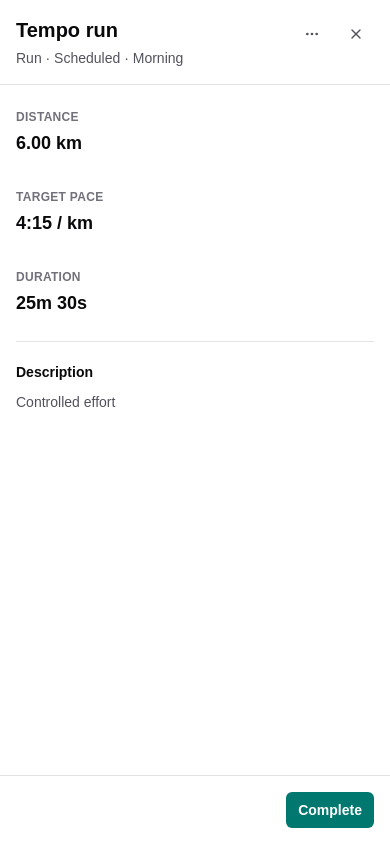
Test: puts complete in the footer and skip in more actions for eligible training sessions
Expected: the button named "Close training session details" is shown, [338, 16, 374, 52]
Expected: the menu item "Skip" is not shown
Click the button named "More actions": [312, 34] box [294, 16, 330, 52]
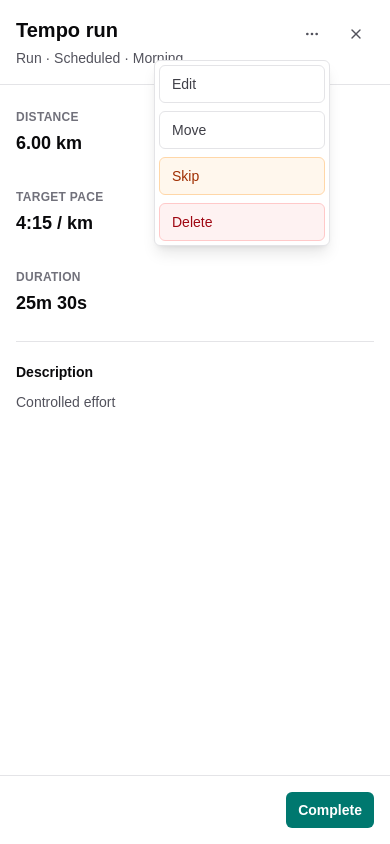
Result: the menu item "Edit" is shown at [159, 65, 325, 103]
